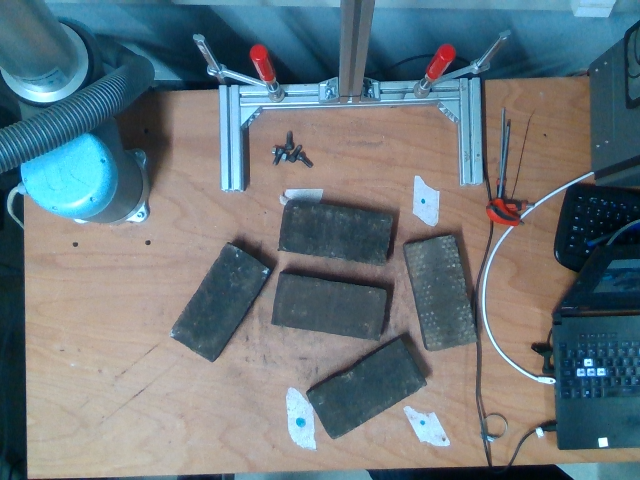brick: (171, 244, 270, 362), (313, 344, 425, 435), (407, 238, 474, 348), (277, 202, 394, 264), (277, 277, 384, 336)
